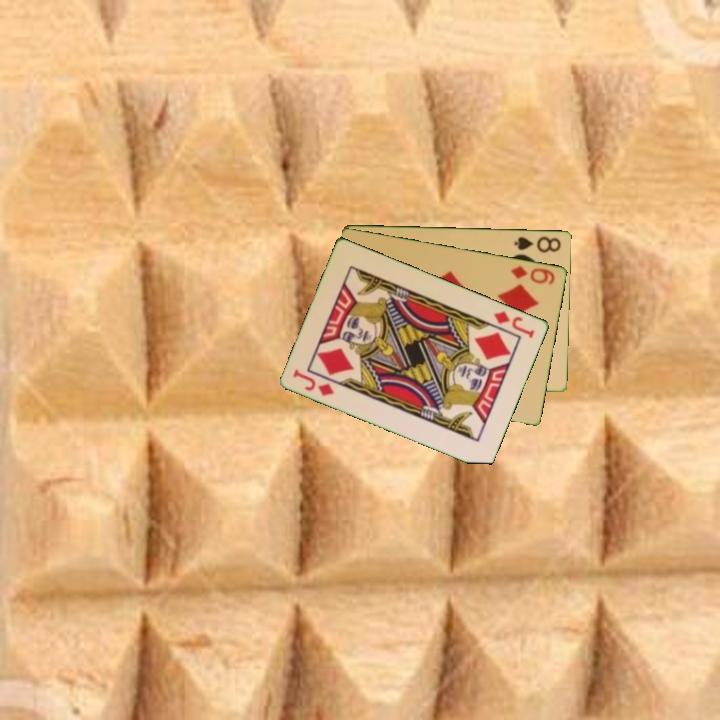6d: (507, 261, 558, 287)
8s: (511, 233, 564, 255)
Jd: (490, 307, 538, 341), (290, 366, 337, 399)
